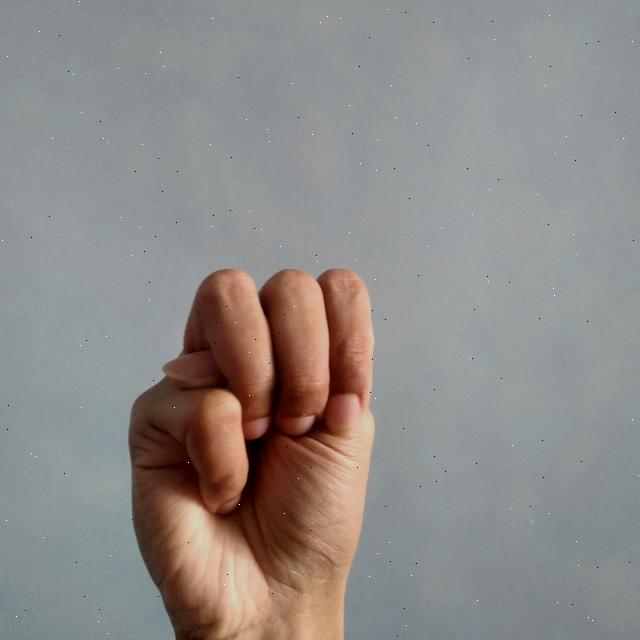M: (116, 260, 390, 640)
